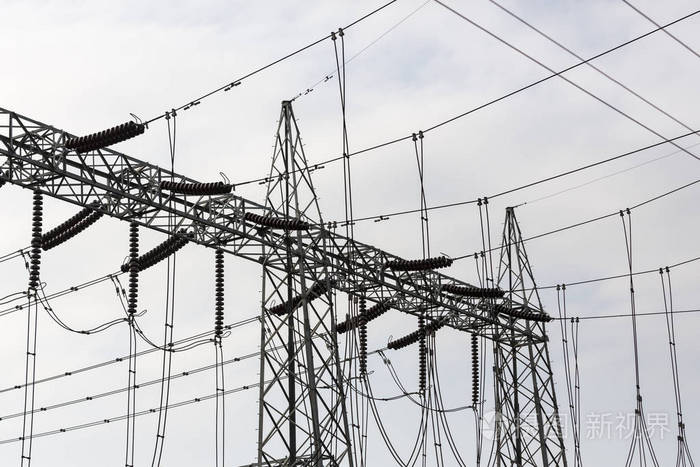insulator: (43, 202, 105, 247), (69, 119, 147, 153), (139, 229, 198, 271), (267, 279, 333, 315), (390, 317, 452, 351), (334, 298, 393, 333), (29, 191, 45, 292), (244, 209, 308, 232), (160, 176, 231, 196), (211, 250, 226, 336), (123, 220, 136, 314), (383, 253, 456, 269), (442, 282, 504, 300), (492, 304, 549, 323), (416, 315, 430, 388), (356, 295, 369, 371), (469, 333, 483, 400)
